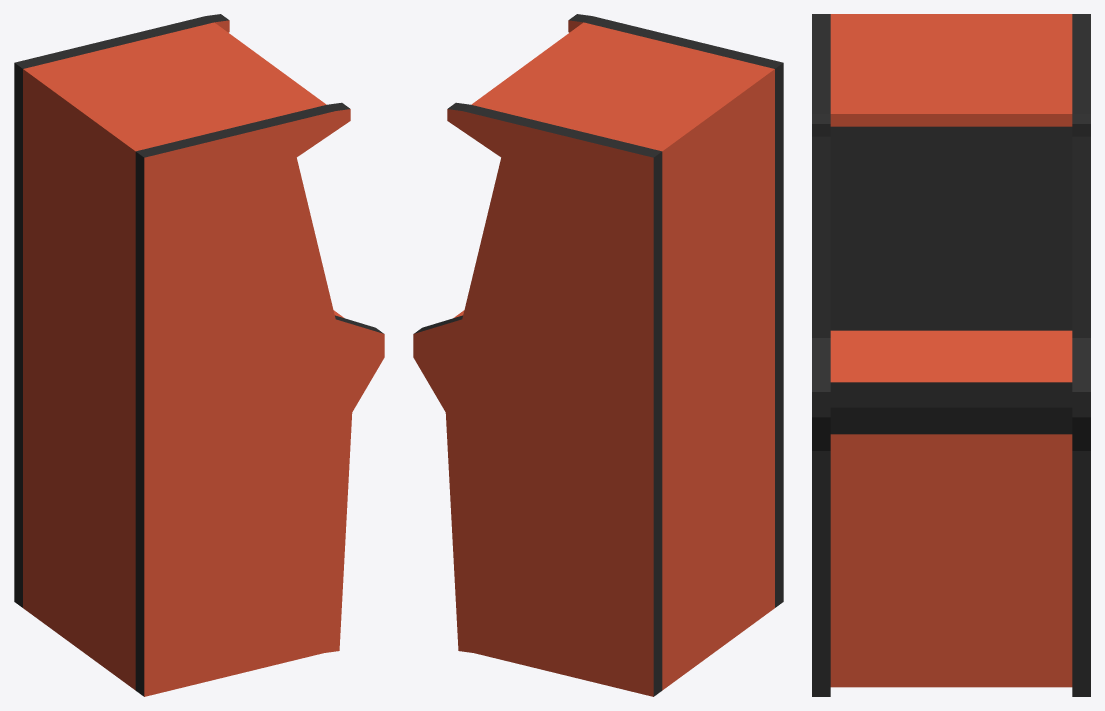
The model's file is VideoGameCabinet.fbx.
3 renders of one model, left to right at view 1: azimuth 30°, elevation 25°; view 2: azimuth 150°, elevation 25°; view 3: azimuth 270°, elevation 25°, orthographic. The views are drawn at different scales.
Parts seen in each view (by area): view 1: Cube; view 2: Cube; view 3: Cube.
Boxes of the visible parts, <box> form: Cube: <box>14,14,384,696</box>; Cube: <box>413,14,783,696</box>; Cube: <box>812,14,1090,696</box>.
Bounding box in the file's own units: 80.1 × 172 × 75.
